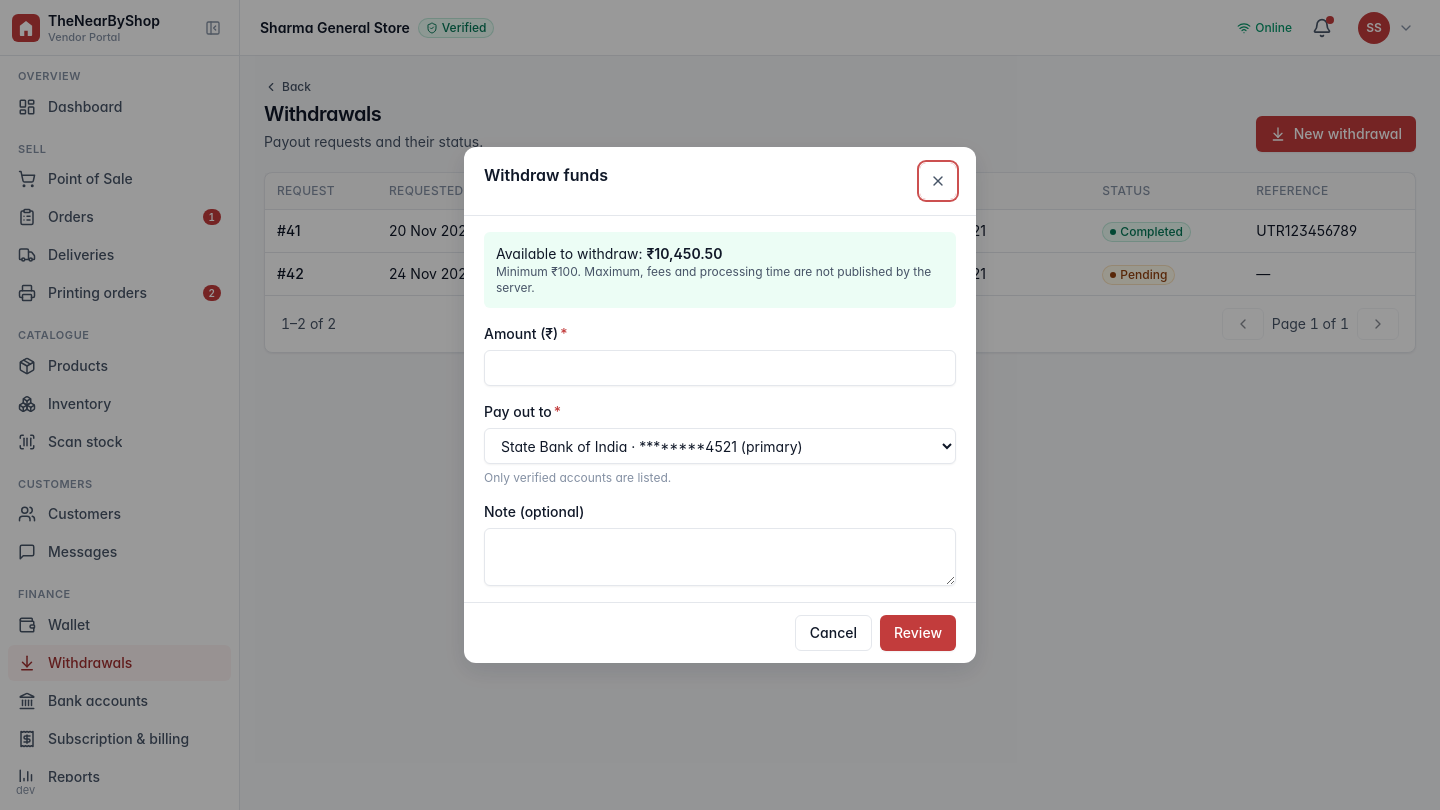
withdrawals › validates the minimum amount
Type "20" into the field labelled "Amount (₹)*".
click(720, 368); type("20")  # box [484, 350, 956, 386]
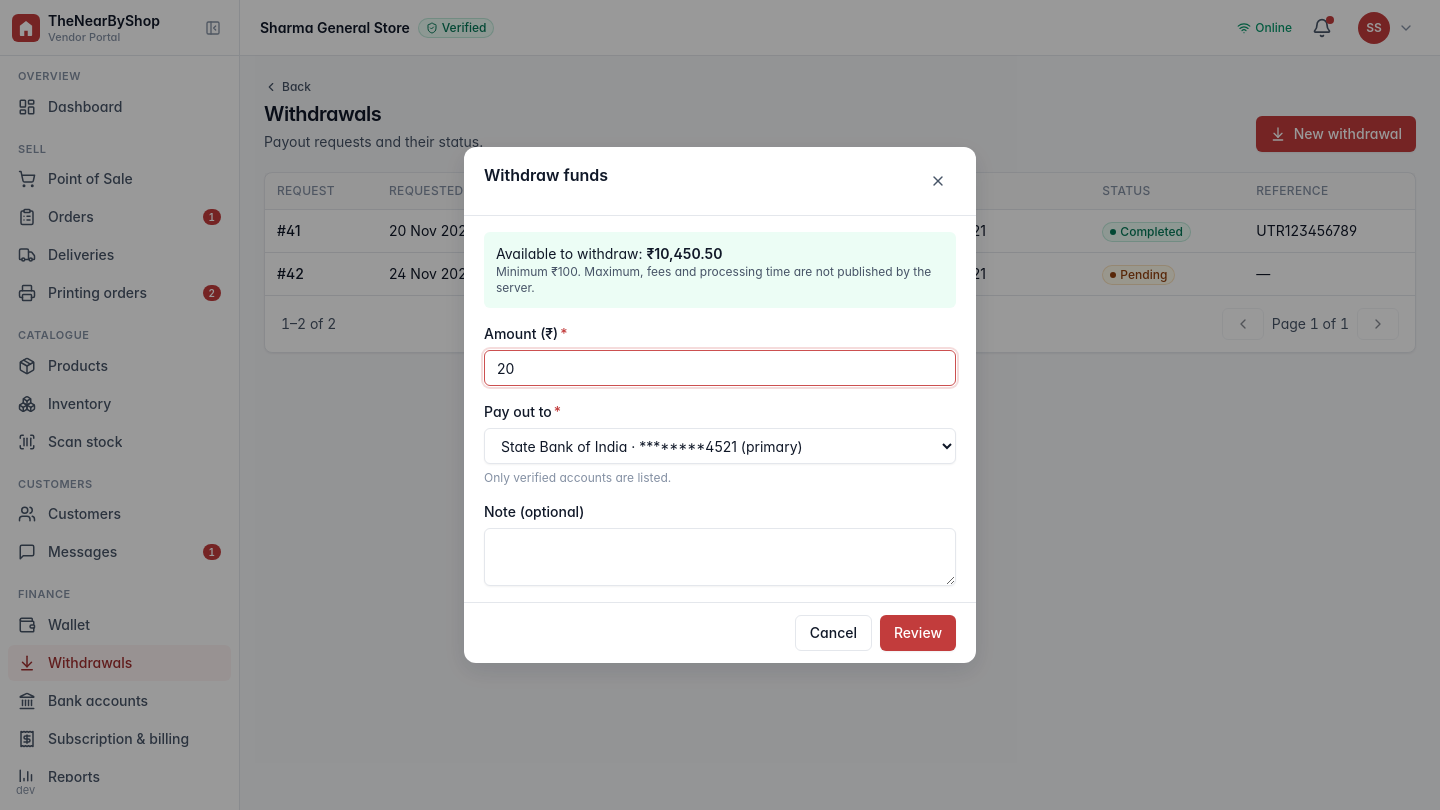
Click the button "Review".
click(918, 633)  # box [880, 615, 956, 651]
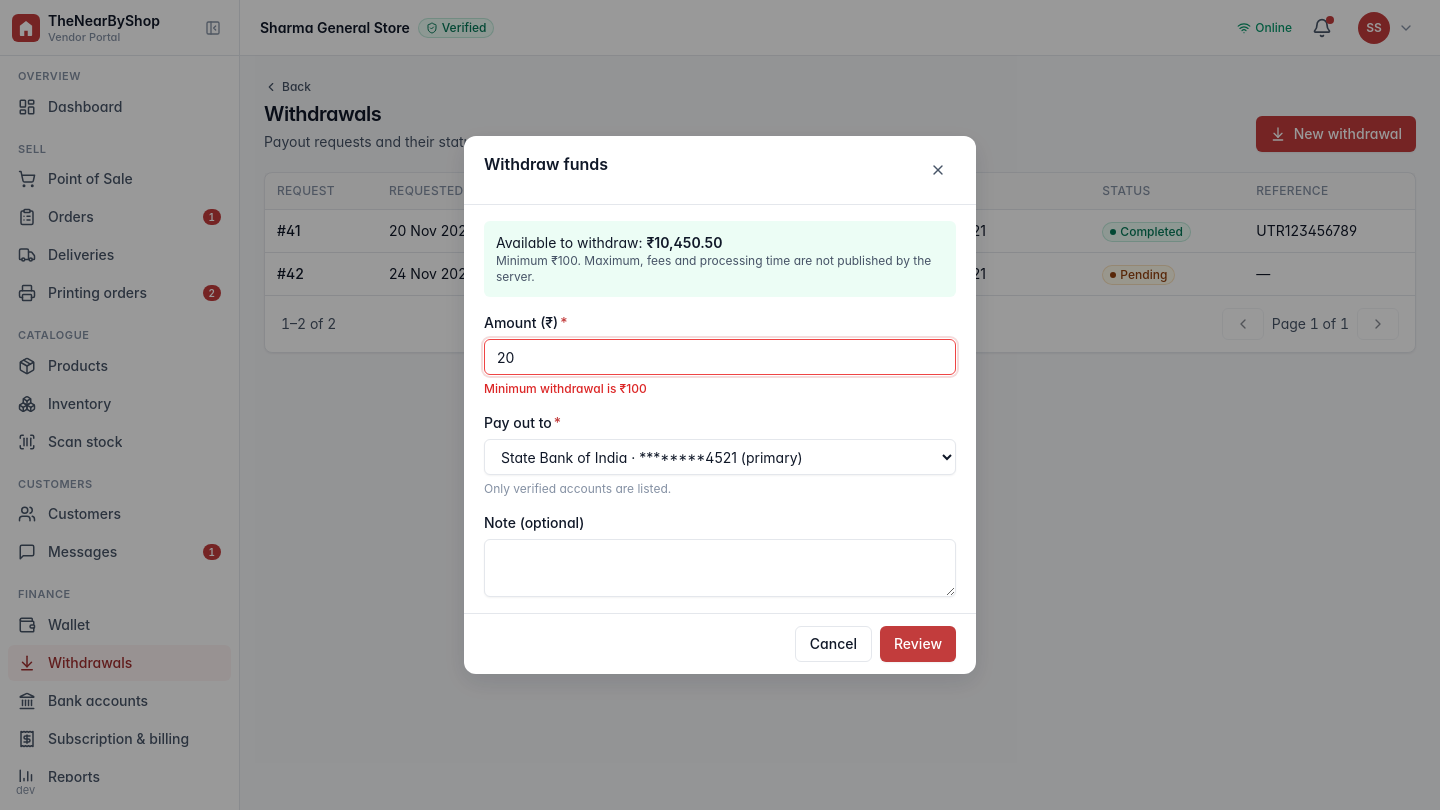
Expected: the text "Minimum withdrawal is ₹100" is shown, [484, 381, 647, 396]
